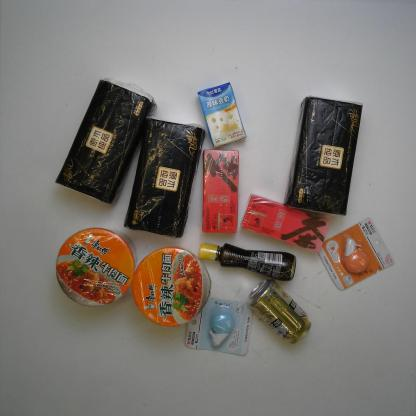Alcohol: (248, 278, 312, 344)
Instant Drink: (240, 194, 331, 253), (201, 149, 240, 234)
Instant Noodles: (131, 246, 212, 328), (55, 227, 138, 307)
Milk: (196, 82, 247, 148)
Seasoner: (198, 242, 296, 282)
Stationery: (317, 217, 394, 291), (184, 297, 253, 356)
Tissue: (55, 77, 158, 205), (122, 115, 206, 240), (282, 94, 363, 216)
